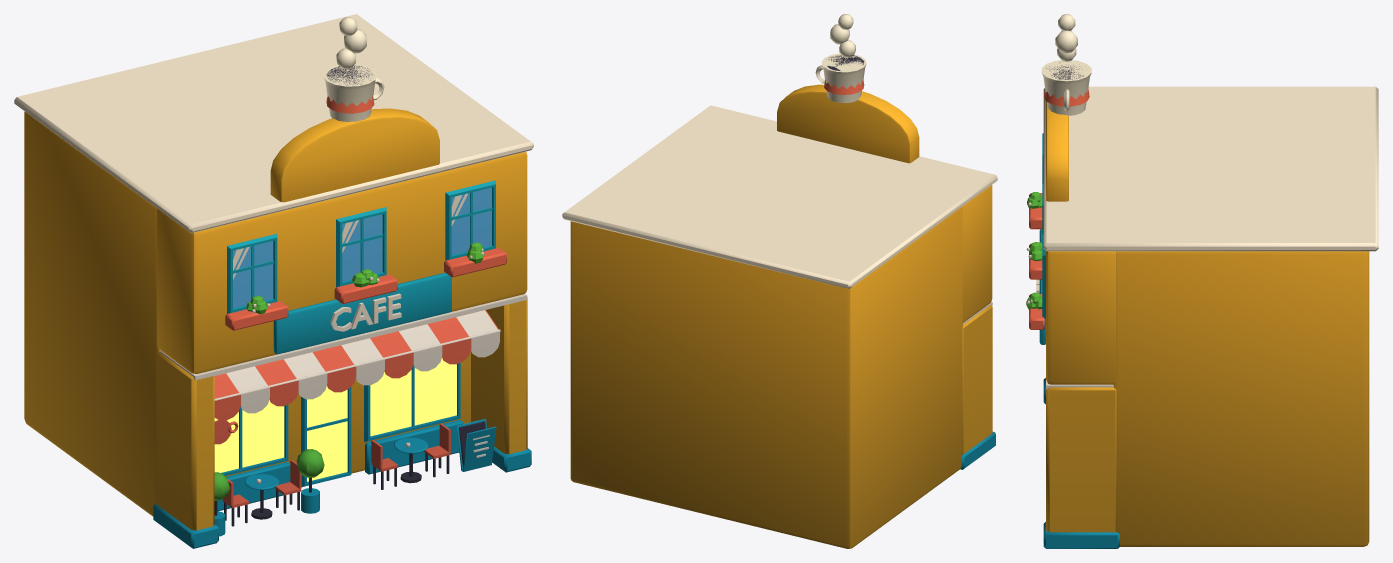
File: shop_cafe.glb
3 renders of one model, left to right at view 1: azimuth 30°, elevation 25°; view 2: azimuth 150°, elevation 25°; view 3: azimuth 270°, elevation 25°, orthographic. The views are drawn at different scales.
Parts seen in each view (by area): view 1: shop_cafe; view 2: shop_cafe; view 3: shop_cafe.
Boxes of the visible parts, <box> form: shop_cafe: <box>14,14,533,548</box>; shop_cafe: <box>562,14,997,548</box>; shop_cafe: <box>1026,14,1378,548</box>.
Size of the model in its own units: 8.2 by 10.97 by 7.68.
